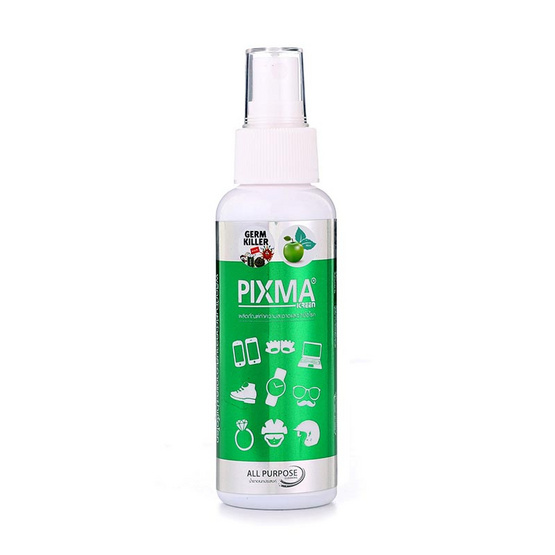Cleaning_solution: (209, 36, 343, 513)
